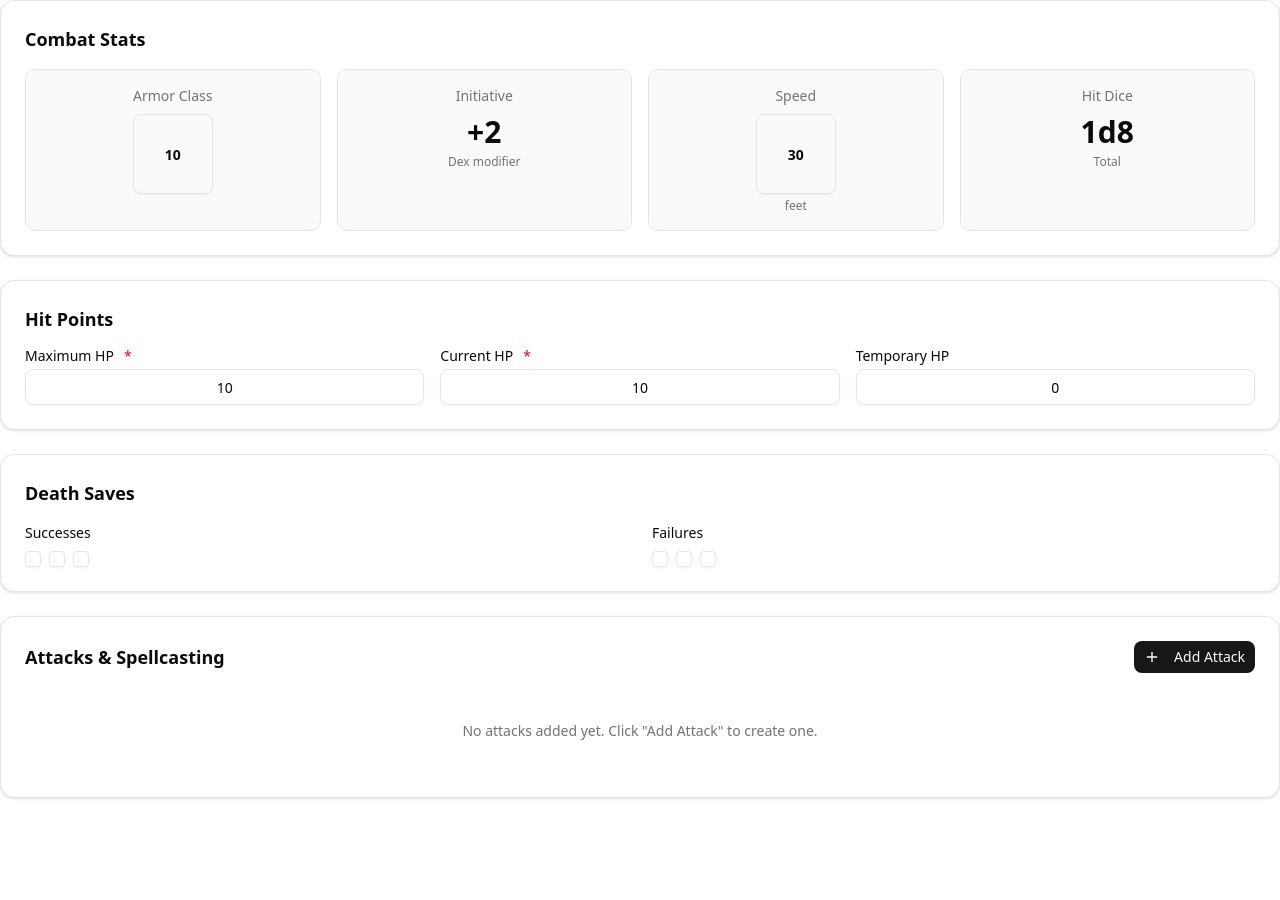
Test: CombatTab - Attack Management › should add a new attack when "Add Attack" is clicked
The width and height of the screenshot is (1280, 900).
Click the button "Add Attack" at [1195, 657], box [1134,641,1255,673]
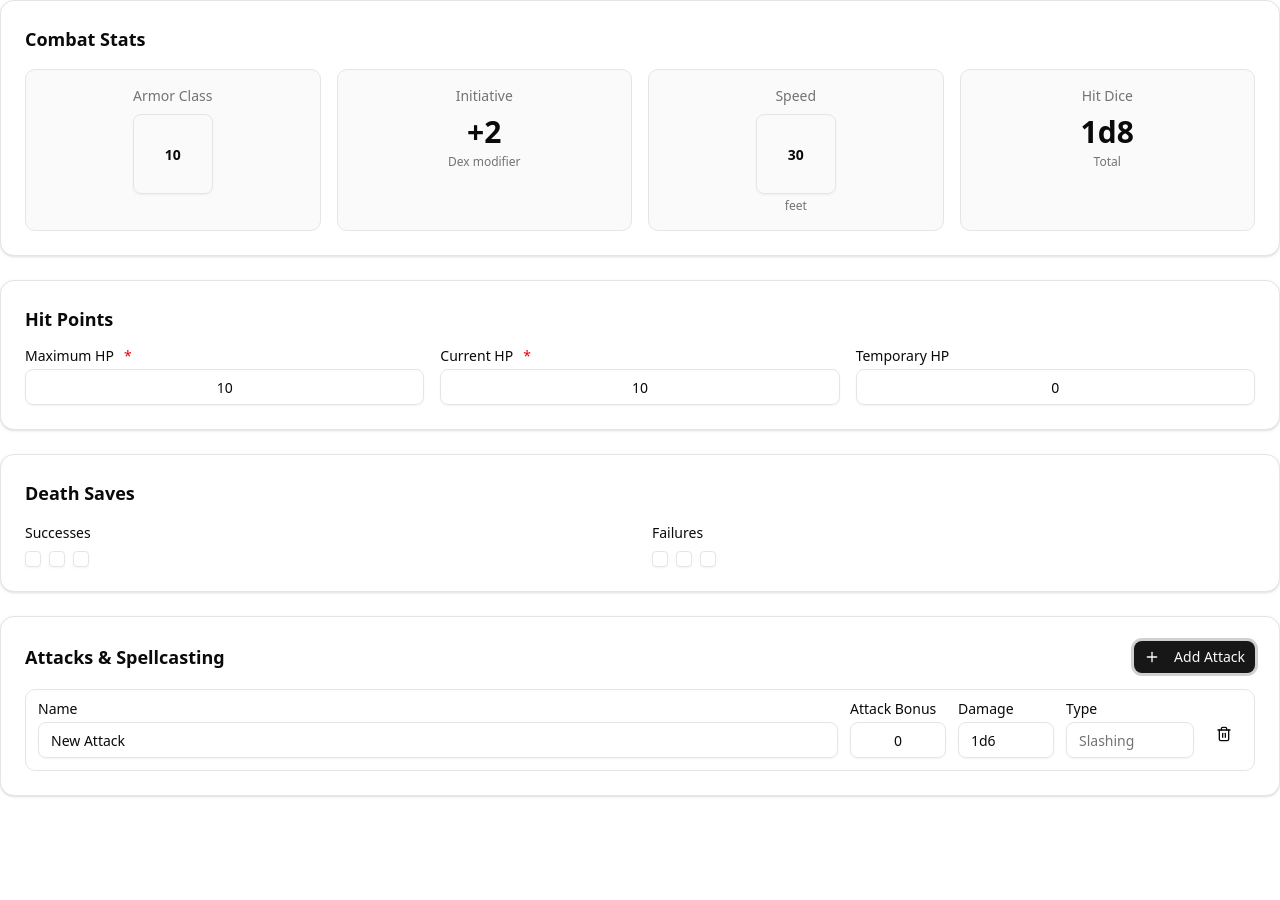
Expected: the number field below "Armor Class" is shown, [133,114,213,194]
Expected: the text "No attacks added yet" is gone
